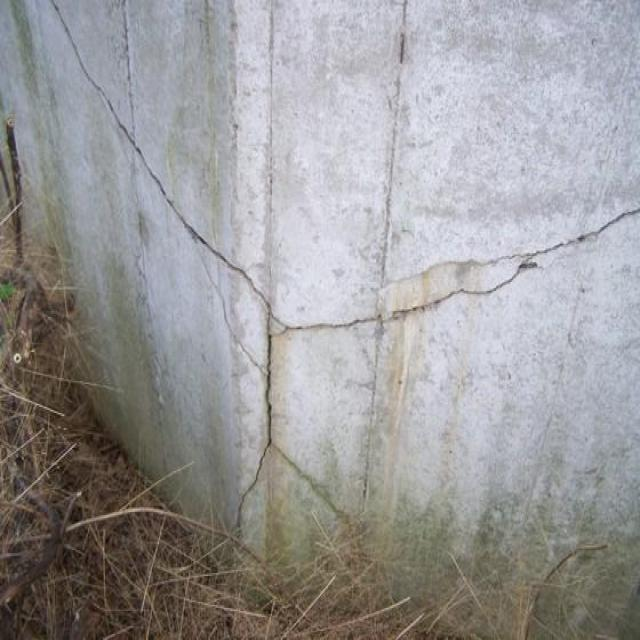multi-branched crack: (49, 0, 638, 536)
